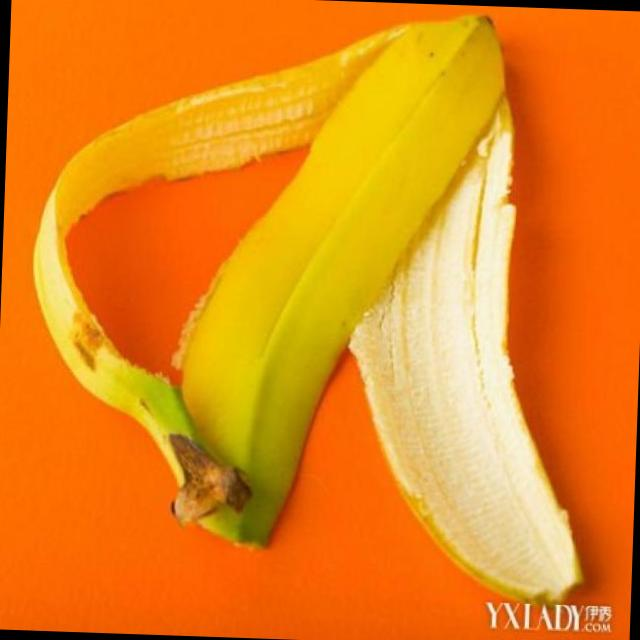banana-peel: (19, 0, 601, 605)
